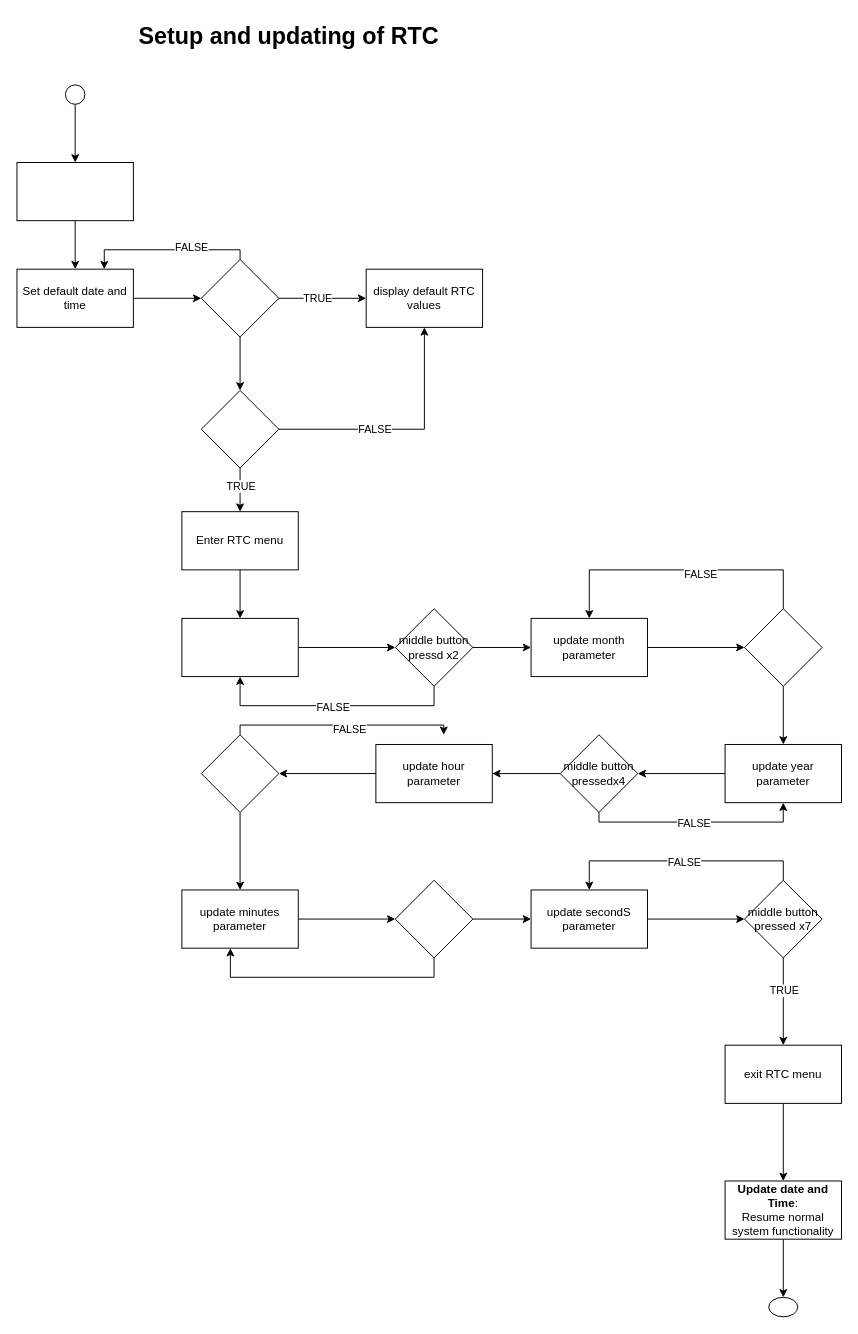
The diagram is 858 pixels wide and 1334 high, and some of its shapes have lost their labels. The shapes that lost their labels are listed below. From the top down, each one's centre as x and y in pixels, then its label:
the point at 74,191: Initialise RTC on .ioc file
the point at 239,298: display mode 4
the point at 239,428: Middle button pressed
the point at 239,647: Default: Update Date parameter
the point at 783,647: middle button pressedx3
the point at 239,773: middle button pressed x5
the point at 433,918: middle button pressed x6
